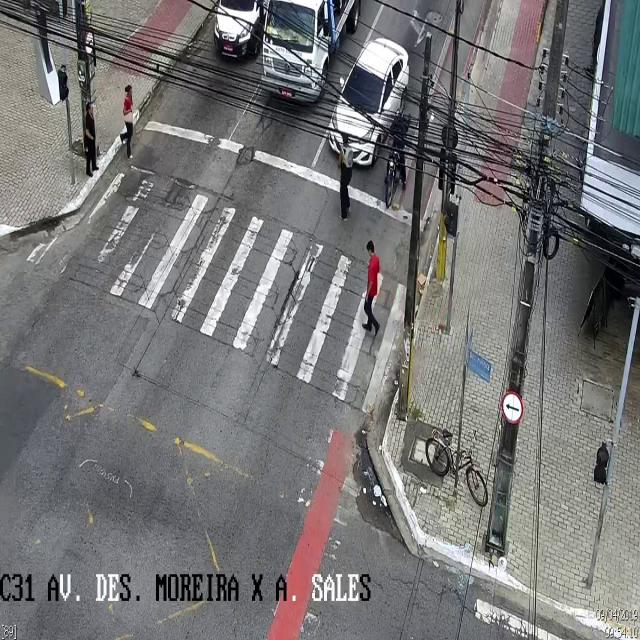Car: (329, 36, 409, 169), (212, 2, 266, 60)
Truck: (259, 0, 365, 100)
